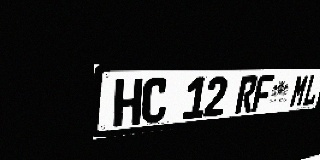1: (182, 77, 209, 120)
2: (203, 76, 229, 117)
C: (141, 78, 169, 124)
F: (251, 75, 274, 112)
H: (113, 78, 143, 127)
L: (302, 74, 320, 106)
M: (289, 74, 310, 108)
R: (235, 76, 259, 114)
